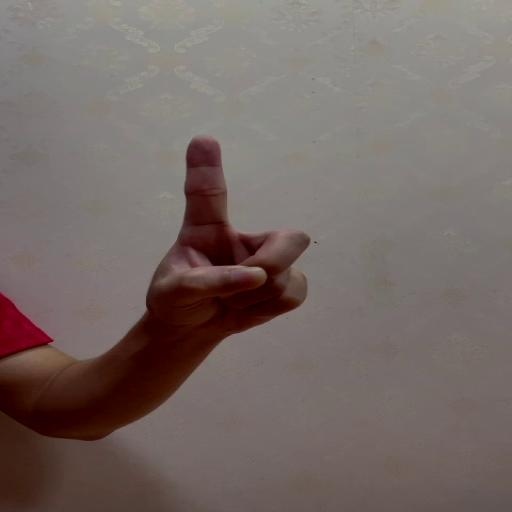point: (178, 133, 313, 323)
